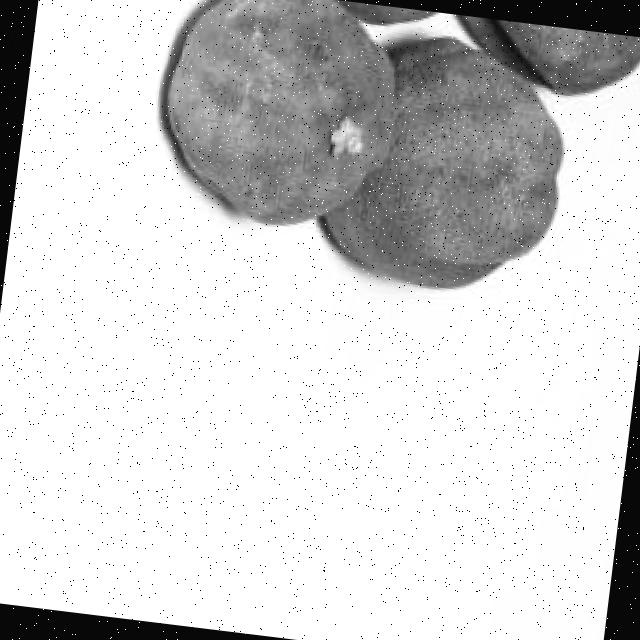overripe: (317, 26, 580, 307), (148, 0, 401, 244)
